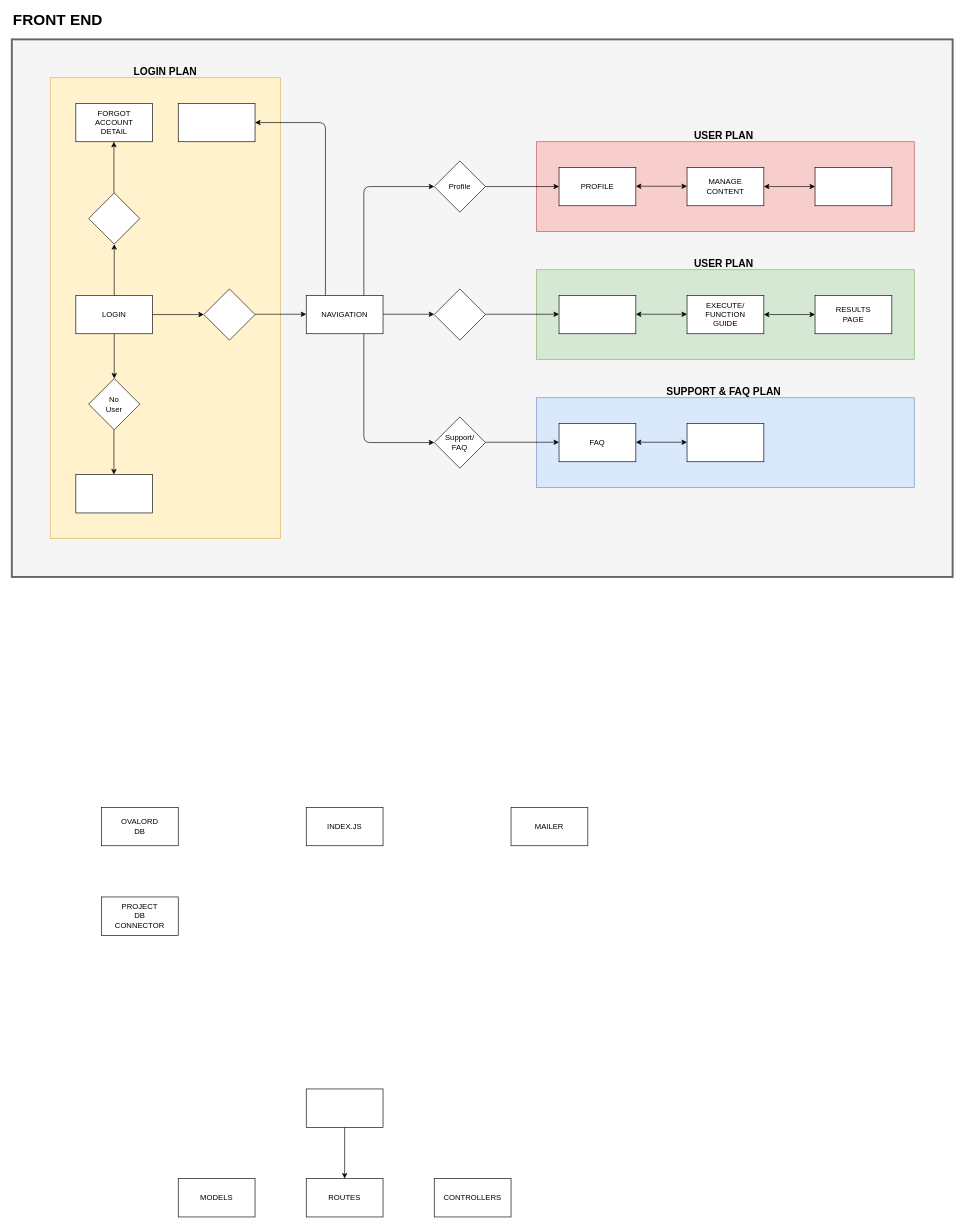
Some shapes in this 964 by 1228 pixel diagram are drawn without their labels. Here are the shapes that lost their labels. From the top down, the centre of each, then its label:
(216,122): LOGOUT
(853,186): EDITOR/ CREATOR
(114,218): Forgot Credentials
(229,314): Success
(459,314): Home
(597,314): PROJECT SELECTION
(725,442): CONTACT FORM
(114,493): REQUEST ACCESS
(344,1107): PROJECT
